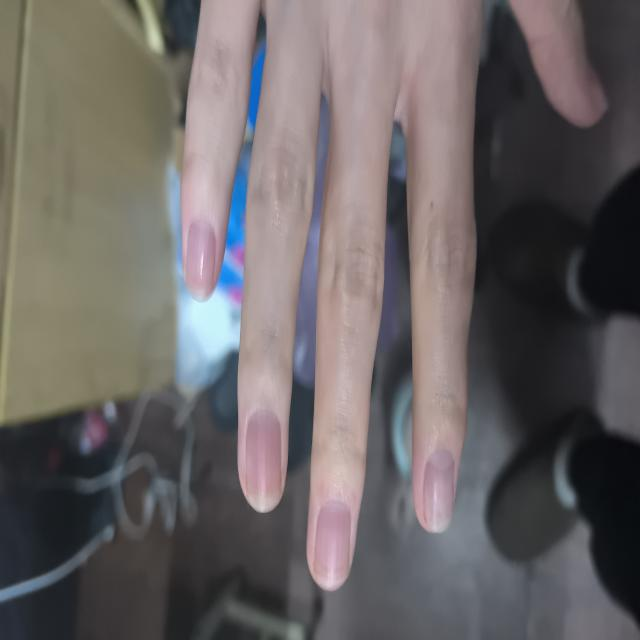Nail: (246, 409, 281, 510), (314, 501, 351, 586), (423, 450, 454, 532), (187, 220, 216, 299), (591, 64, 608, 108)
